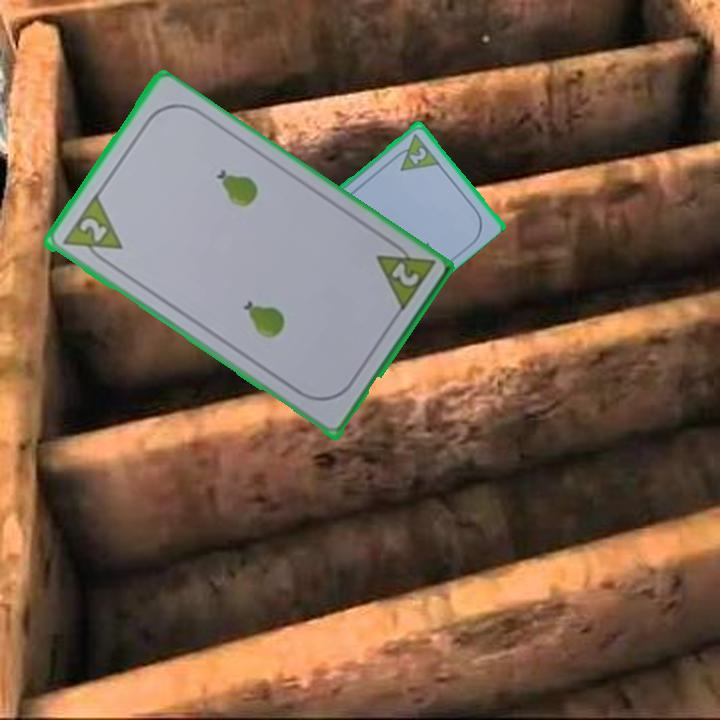2p: (57, 192, 126, 270), (372, 235, 437, 316), (388, 129, 442, 174)
